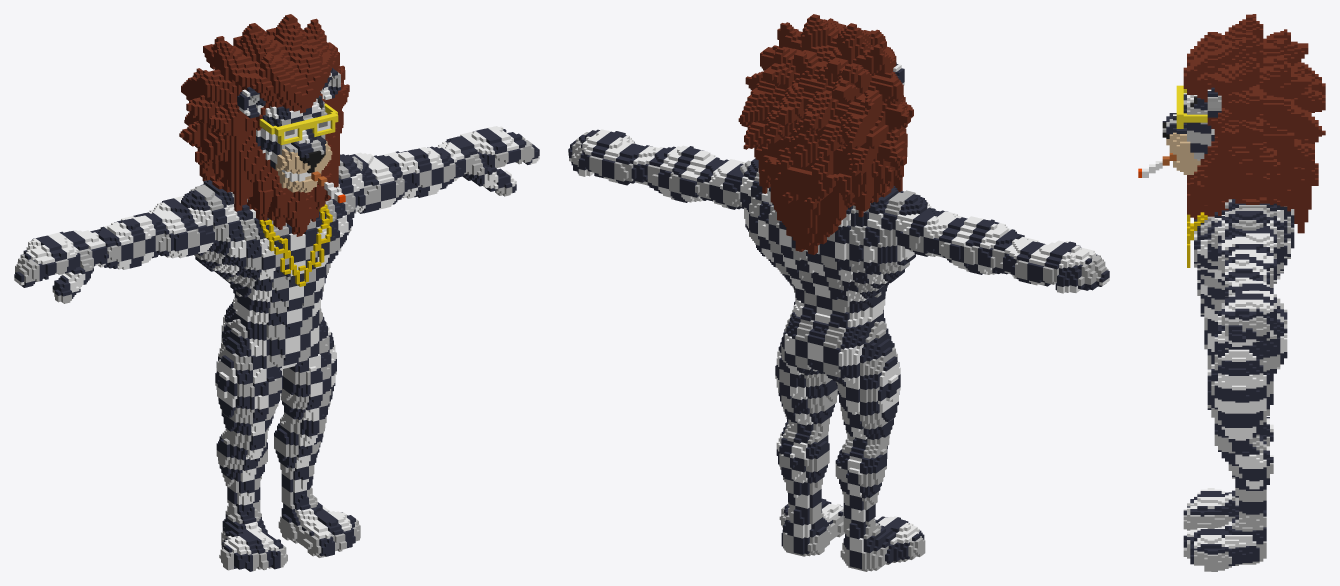
Rendered from 764-BFojl431.glb.
The picture shows the model from 3 angles, left to right: view 1: azimuth 30°, elevation 25°; view 2: azimuth 150°, elevation 25°; view 3: azimuth 270°, elevation 25°; orthographic projection. The views are drawn at different scales.
Visible parts, largest first — view 1: cigarette; view 2: cigarette; view 3: cigarette.
Boxes of the visible parts, left/top/right/bottom form: cigarette: left=14, top=14, right=539, bottom=571; cigarette: left=568, top=14, right=1109, bottom=571; cigarette: left=1138, top=14, right=1325, bottom=571.
Size of the model in its own units: 17.2 by 16.5 by 5.4.
Materials: 5 (5 with a texture image).
